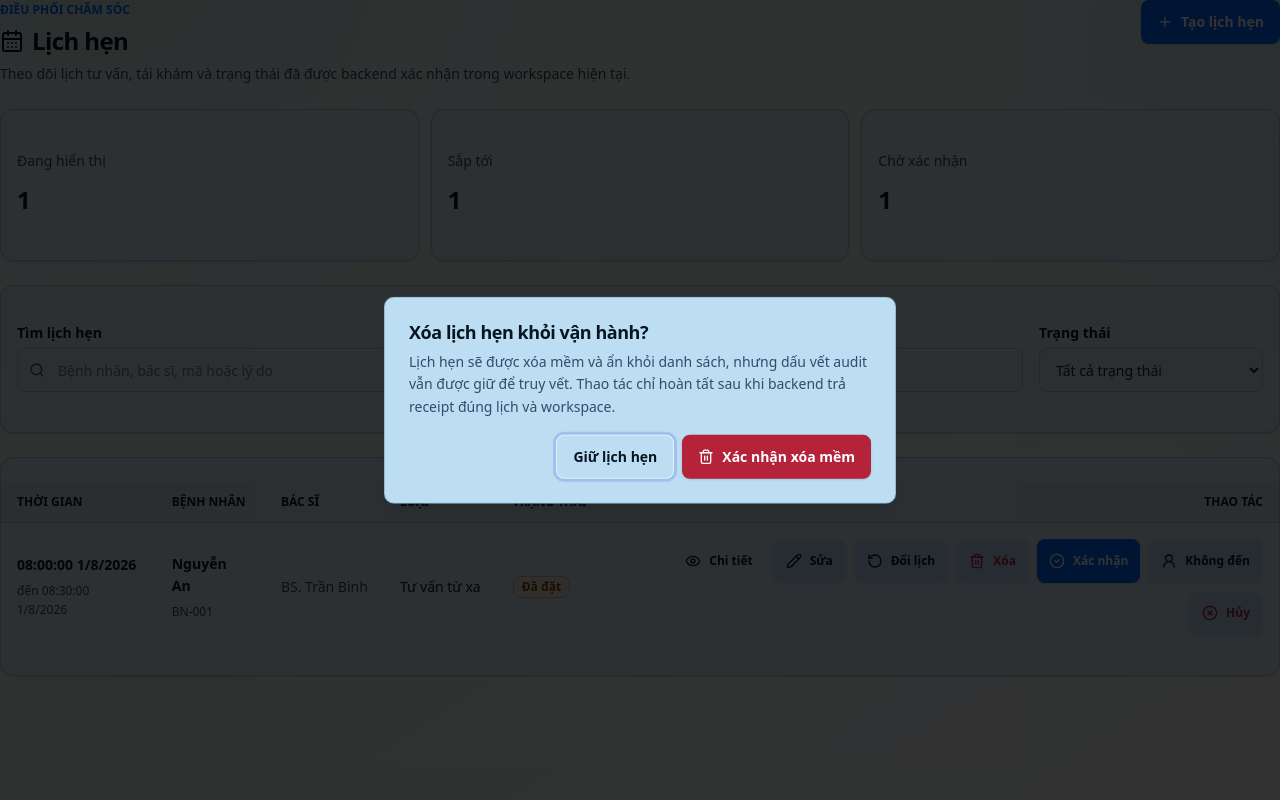
Test: Portal Appointments › confirms soft-delete and reuses one idempotency key after a transient failure
Earlier steps of the test are not shown.
Later steps or results of the test are not shown.
Expected: the text "xóa mềm và ẩn khỏi danh sách" is shown, x1=409 y1=351 x2=867 y2=416
Click the button "Xác nhận xóa mềm" at (777, 456), box x1=682 y1=434 x2=871 y2=478
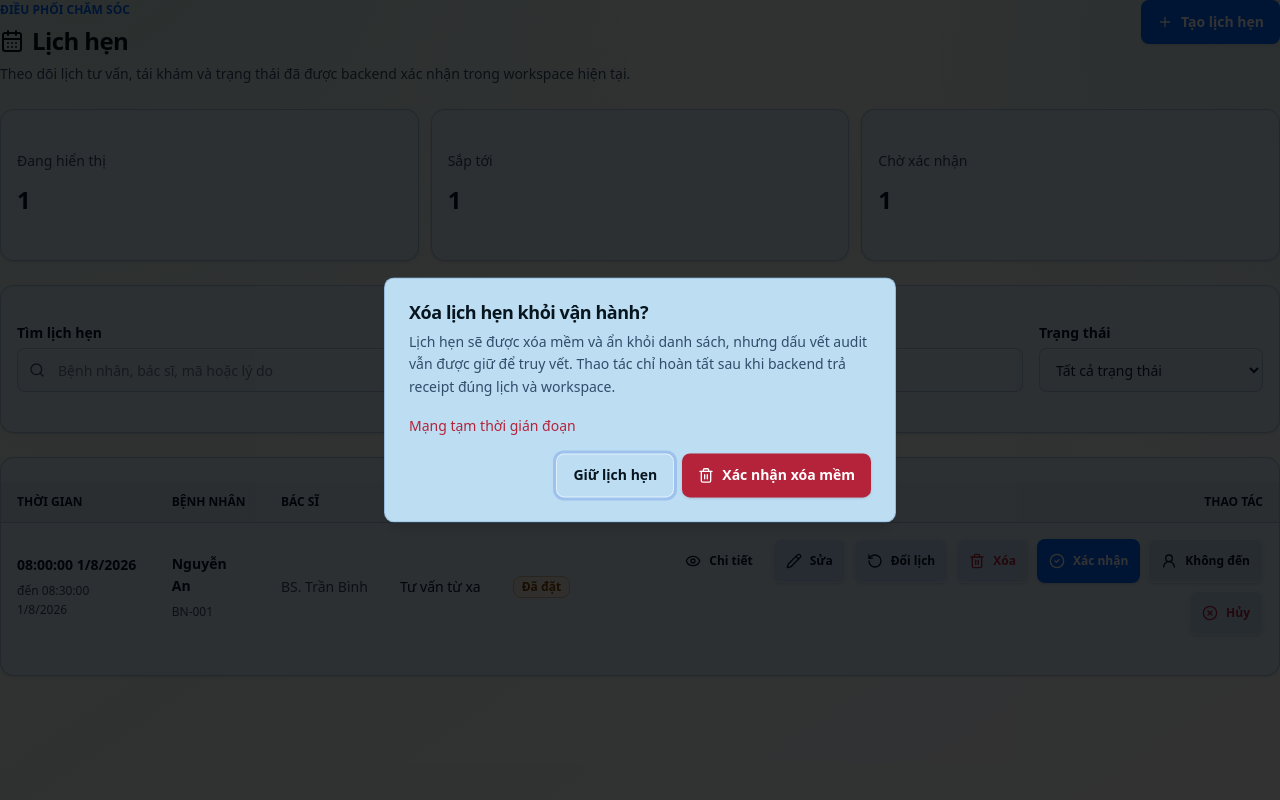
Expected: the text "Mạng tạm thời gián đoạn" is shown, x1=409 y1=416 x2=576 y2=435
